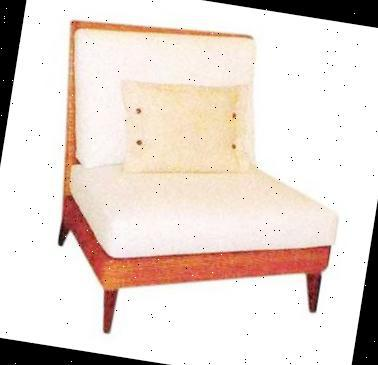Silla: (19, 8, 366, 362)
